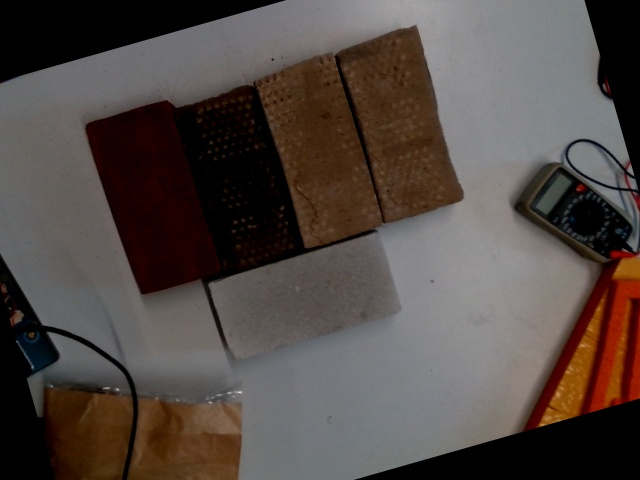brick: (335, 27, 465, 223), (253, 52, 382, 249), (209, 236, 400, 362), (91, 101, 216, 293), (178, 86, 298, 275)
